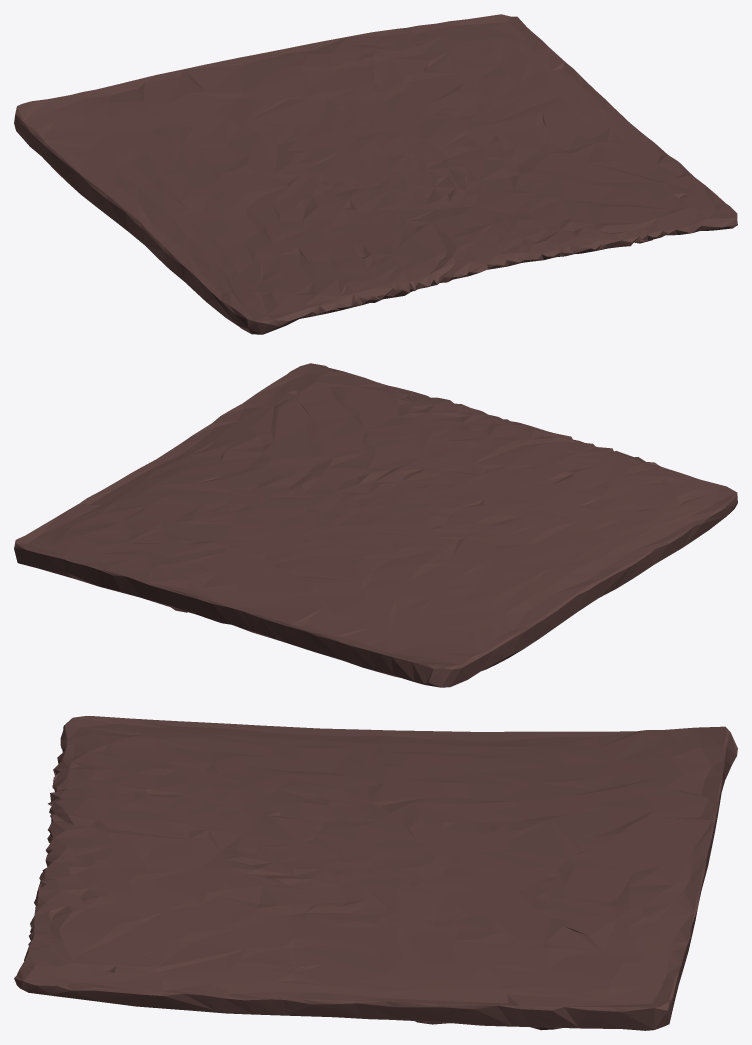
File: phantom_collision.OBJ
The picture shows the model from 3 angles, top to bottom: view 1: azimuth 30°, elevation 25°; view 2: azimuth 150°, elevation 25°; view 3: azimuth 270°, elevation 25°; orthographic projection. The views are drawn at different scales.
Parts seen in each view (by area): view 1: phantom_collision_phantom.003; view 2: phantom_collision_phantom.003; view 3: phantom_collision_phantom.003.
Boxes of the visible parts, x1,y1,x2,y2 form: phantom_collision_phantom.003: [14, 14, 737, 334]; phantom_collision_phantom.003: [14, 363, 737, 687]; phantom_collision_phantom.003: [14, 716, 737, 1030].
Size of the model in its own units: 1.3 by 0.1684 by 1.33.
